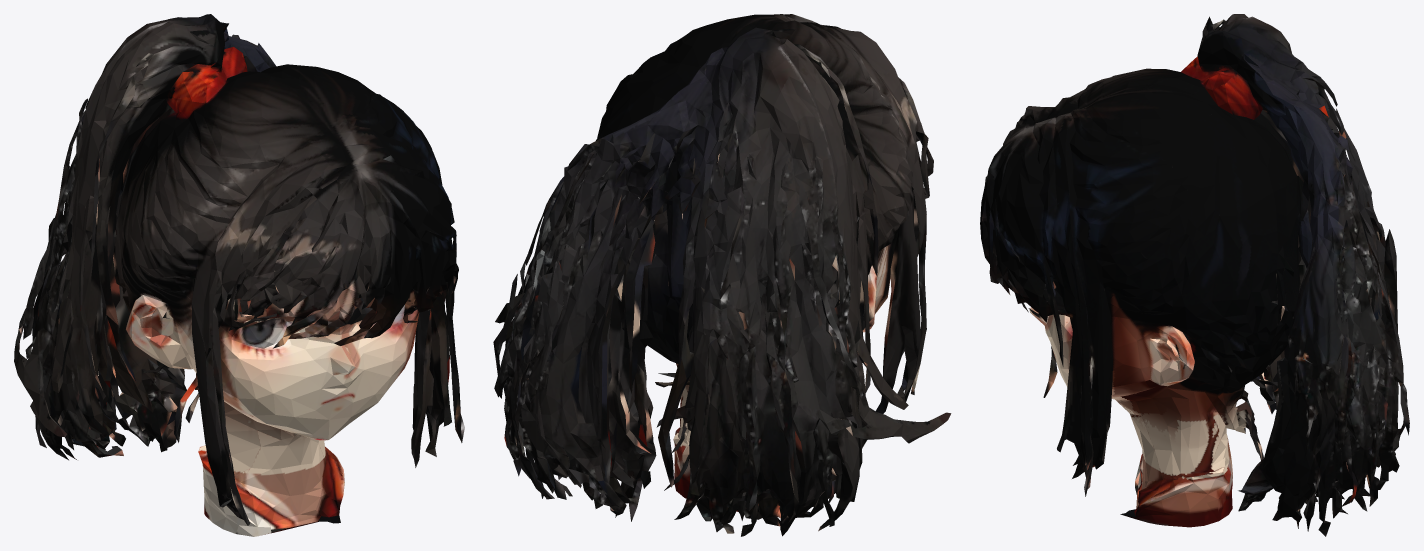
Rendered from side_chihaya_portrait_face_source.glb.
3 views of the same model, side by side, from view 1: azimuth 30°, elevation 25°; view 2: azimuth 150°, elevation 25°; view 3: azimuth 270°, elevation 25° (orthographic). The views are drawn at different scales.
Parts seen in each view (by area): view 1: temp_mesh.ply; view 2: temp_mesh.ply; view 3: temp_mesh.ply.
Boxes of the visible parts, x1,y1,x2,y2 form: temp_mesh.ply: (14, 14, 464, 536); temp_mesh.ply: (493, 14, 951, 536); temp_mesh.ply: (980, 14, 1409, 536).
Size of the model in its own units: 1.62 by 1.96 by 1.68.
Materials: 1 (1 with a texture image).
